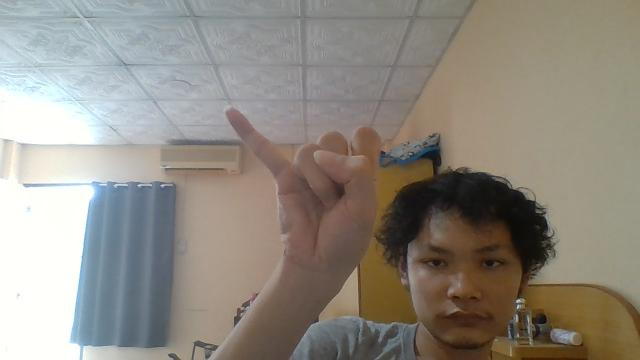Right: (220, 103, 380, 266)
